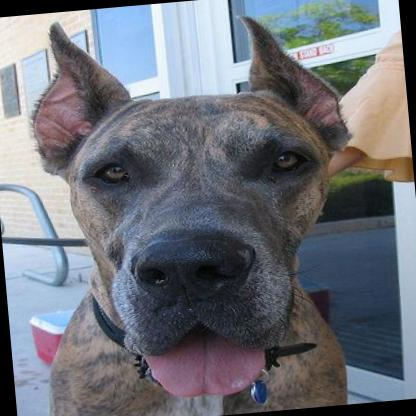Great_Dane: (8, 0, 375, 416)
